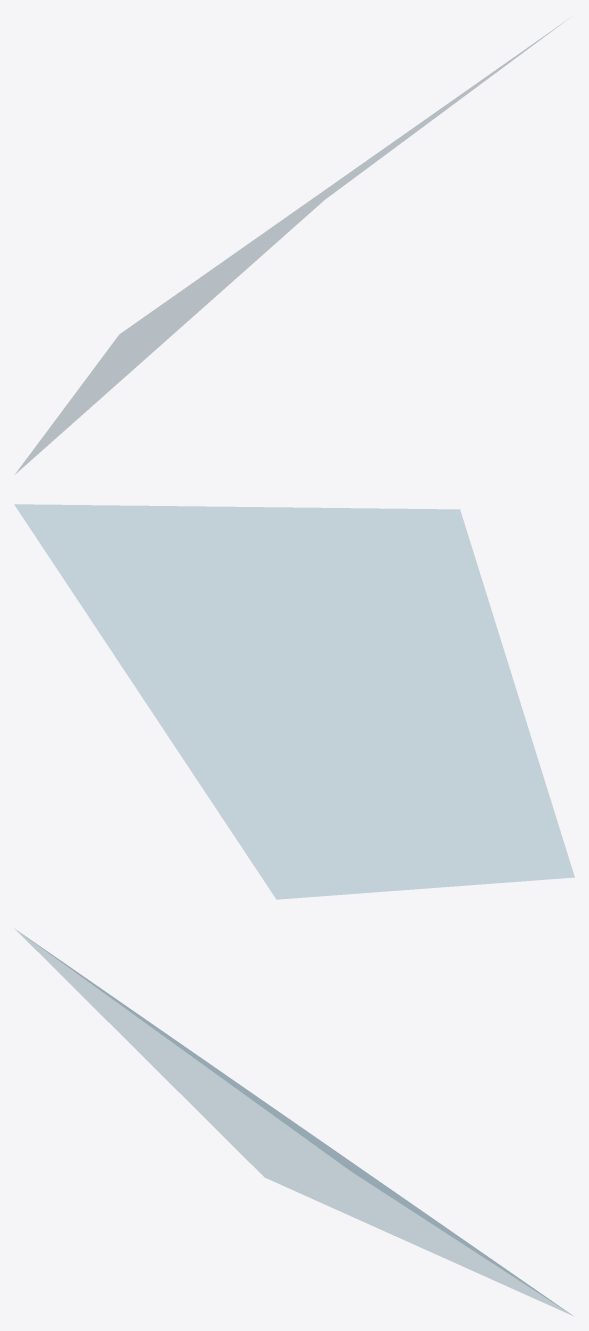
Rendered from CaptainsQuarters_Glass_06.fbx.
3 renders of one model, top to bottom at view 1: azimuth 30°, elevation 25°; view 2: azimuth 150°, elevation 25°; view 3: azimuth 270°, elevation 25°, orthographic. The views are drawn at different scales.
Parts seen in each view (by area): view 1: CaptainsQuarters_Glass_06; view 2: CaptainsQuarters_Glass_06; view 3: CaptainsQuarters_Glass_06.
Part boxes in pixels (x1=…): CaptainsQuarters_Glass_06: x1=16, y1=23, x2=562, y2=472; CaptainsQuarters_Glass_06: x1=14, y1=504, x2=574, y2=899; CaptainsQuarters_Glass_06: x1=15, y1=929, x2=572, y2=1315.
Bounding box in the file's own units: 1799 × 852 × 1077.
